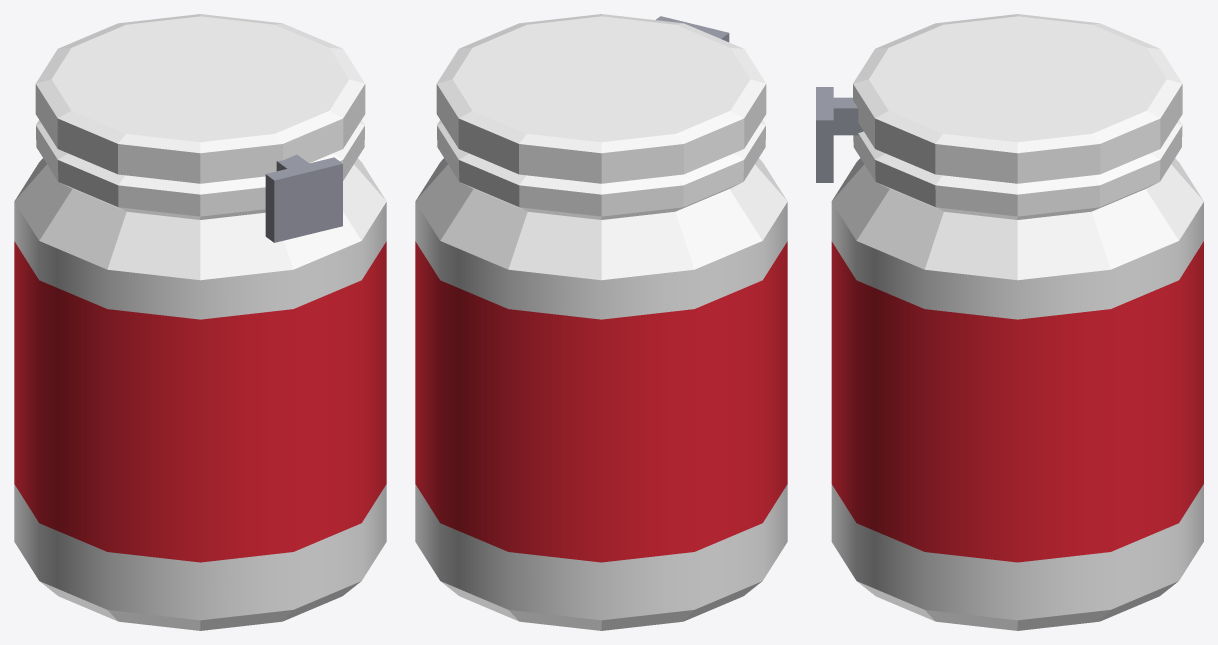
Rendered from SM_chewing_gums_01.fbx.
3 views of the same model, side by side, from view 1: azimuth 30°, elevation 25°; view 2: azimuth 150°, elevation 25°; view 3: azimuth 270°, elevation 25° (orthographic).
Visible parts, largest first — view 1: chewing_gums_01; view 2: chewing_gums_01; view 3: chewing_gums_01.
Part boxes in pixels (x1,y1,x2,y2): chewing_gums_01: (14, 14, 386, 630); chewing_gums_01: (415, 14, 787, 630); chewing_gums_01: (816, 14, 1203, 630).
Size of the model in its own units: 16.27 by 23.26 by 16.95.
